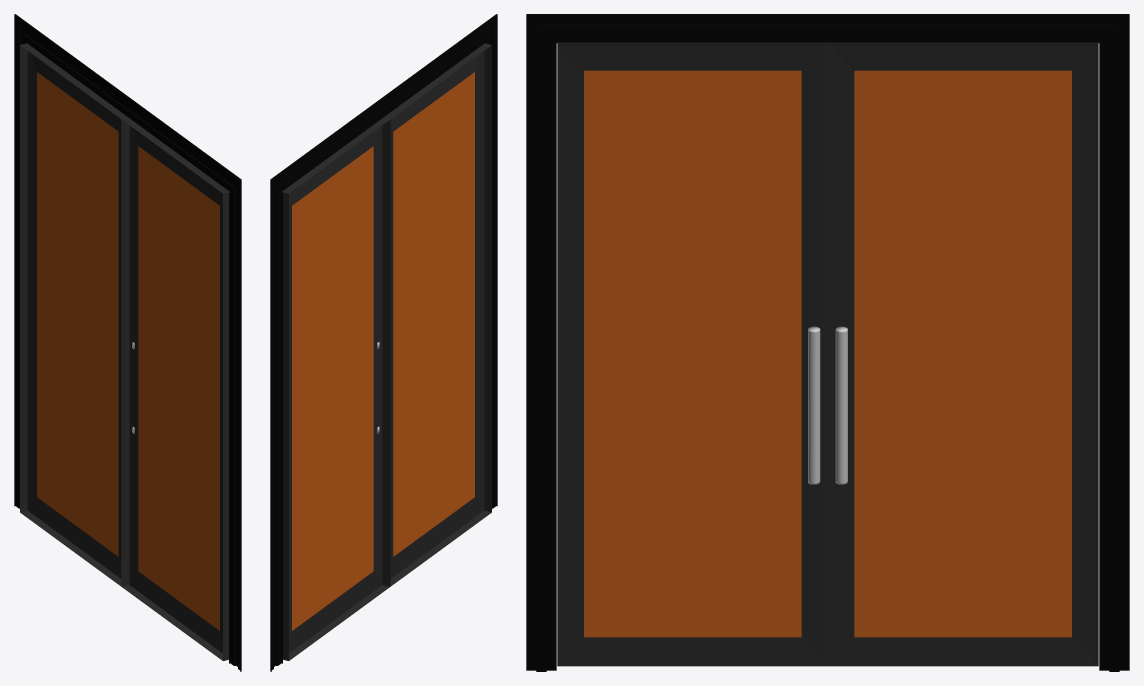
The model's file is Pared-Biblioteca.fbx.
The picture shows the model from 3 angles, left to right: view 1: azimuth 30°, elevation 25°; view 2: azimuth 150°, elevation 25°; view 3: azimuth 270°, elevation 25°; orthographic projection. The views are drawn at different scales.
Parts seen in each view (by area): view 1: Puerta (×2), Marcopuerta; view 2: Puerta (×2), Marcopuerta; view 3: Puerta (×2), Marcopuerta, Manija.
Part boxes in pixels (x1,y1,x2,y2): Puerta (×2): (20,43,230,660); Marcopuerta: (14,14,241,671); Puerta (×2): (281,43,491,660); Marcopuerta: (270,14,497,671); Puerta (×2): (557,42,1098,666); Marcopuerta: (526,14,1129,671); Manija: (808,326,847,484).
Size of the model in its own units: 14.75 by 300 by 250.
